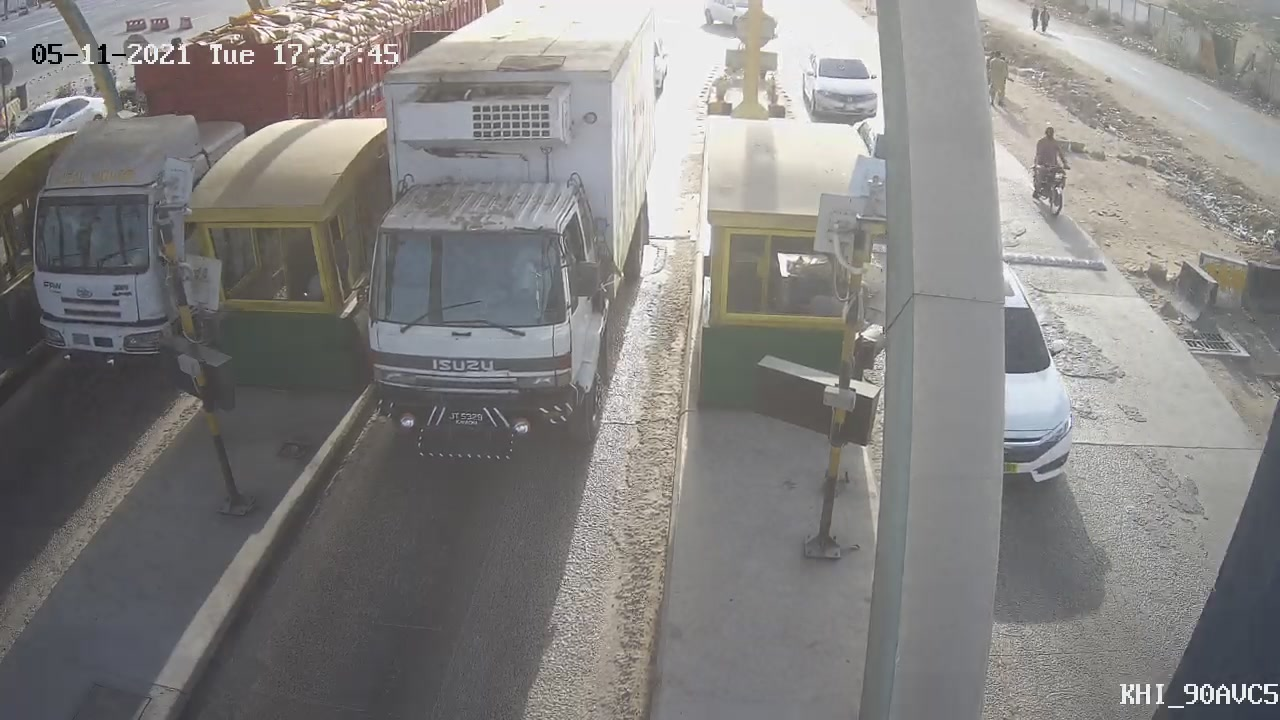F5: (307, 1, 687, 491)
